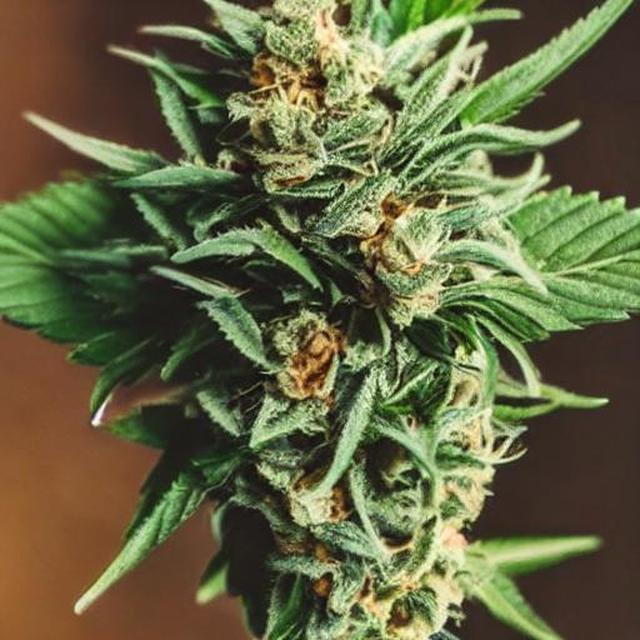Marijuana Plant: (18, 35, 607, 639)
